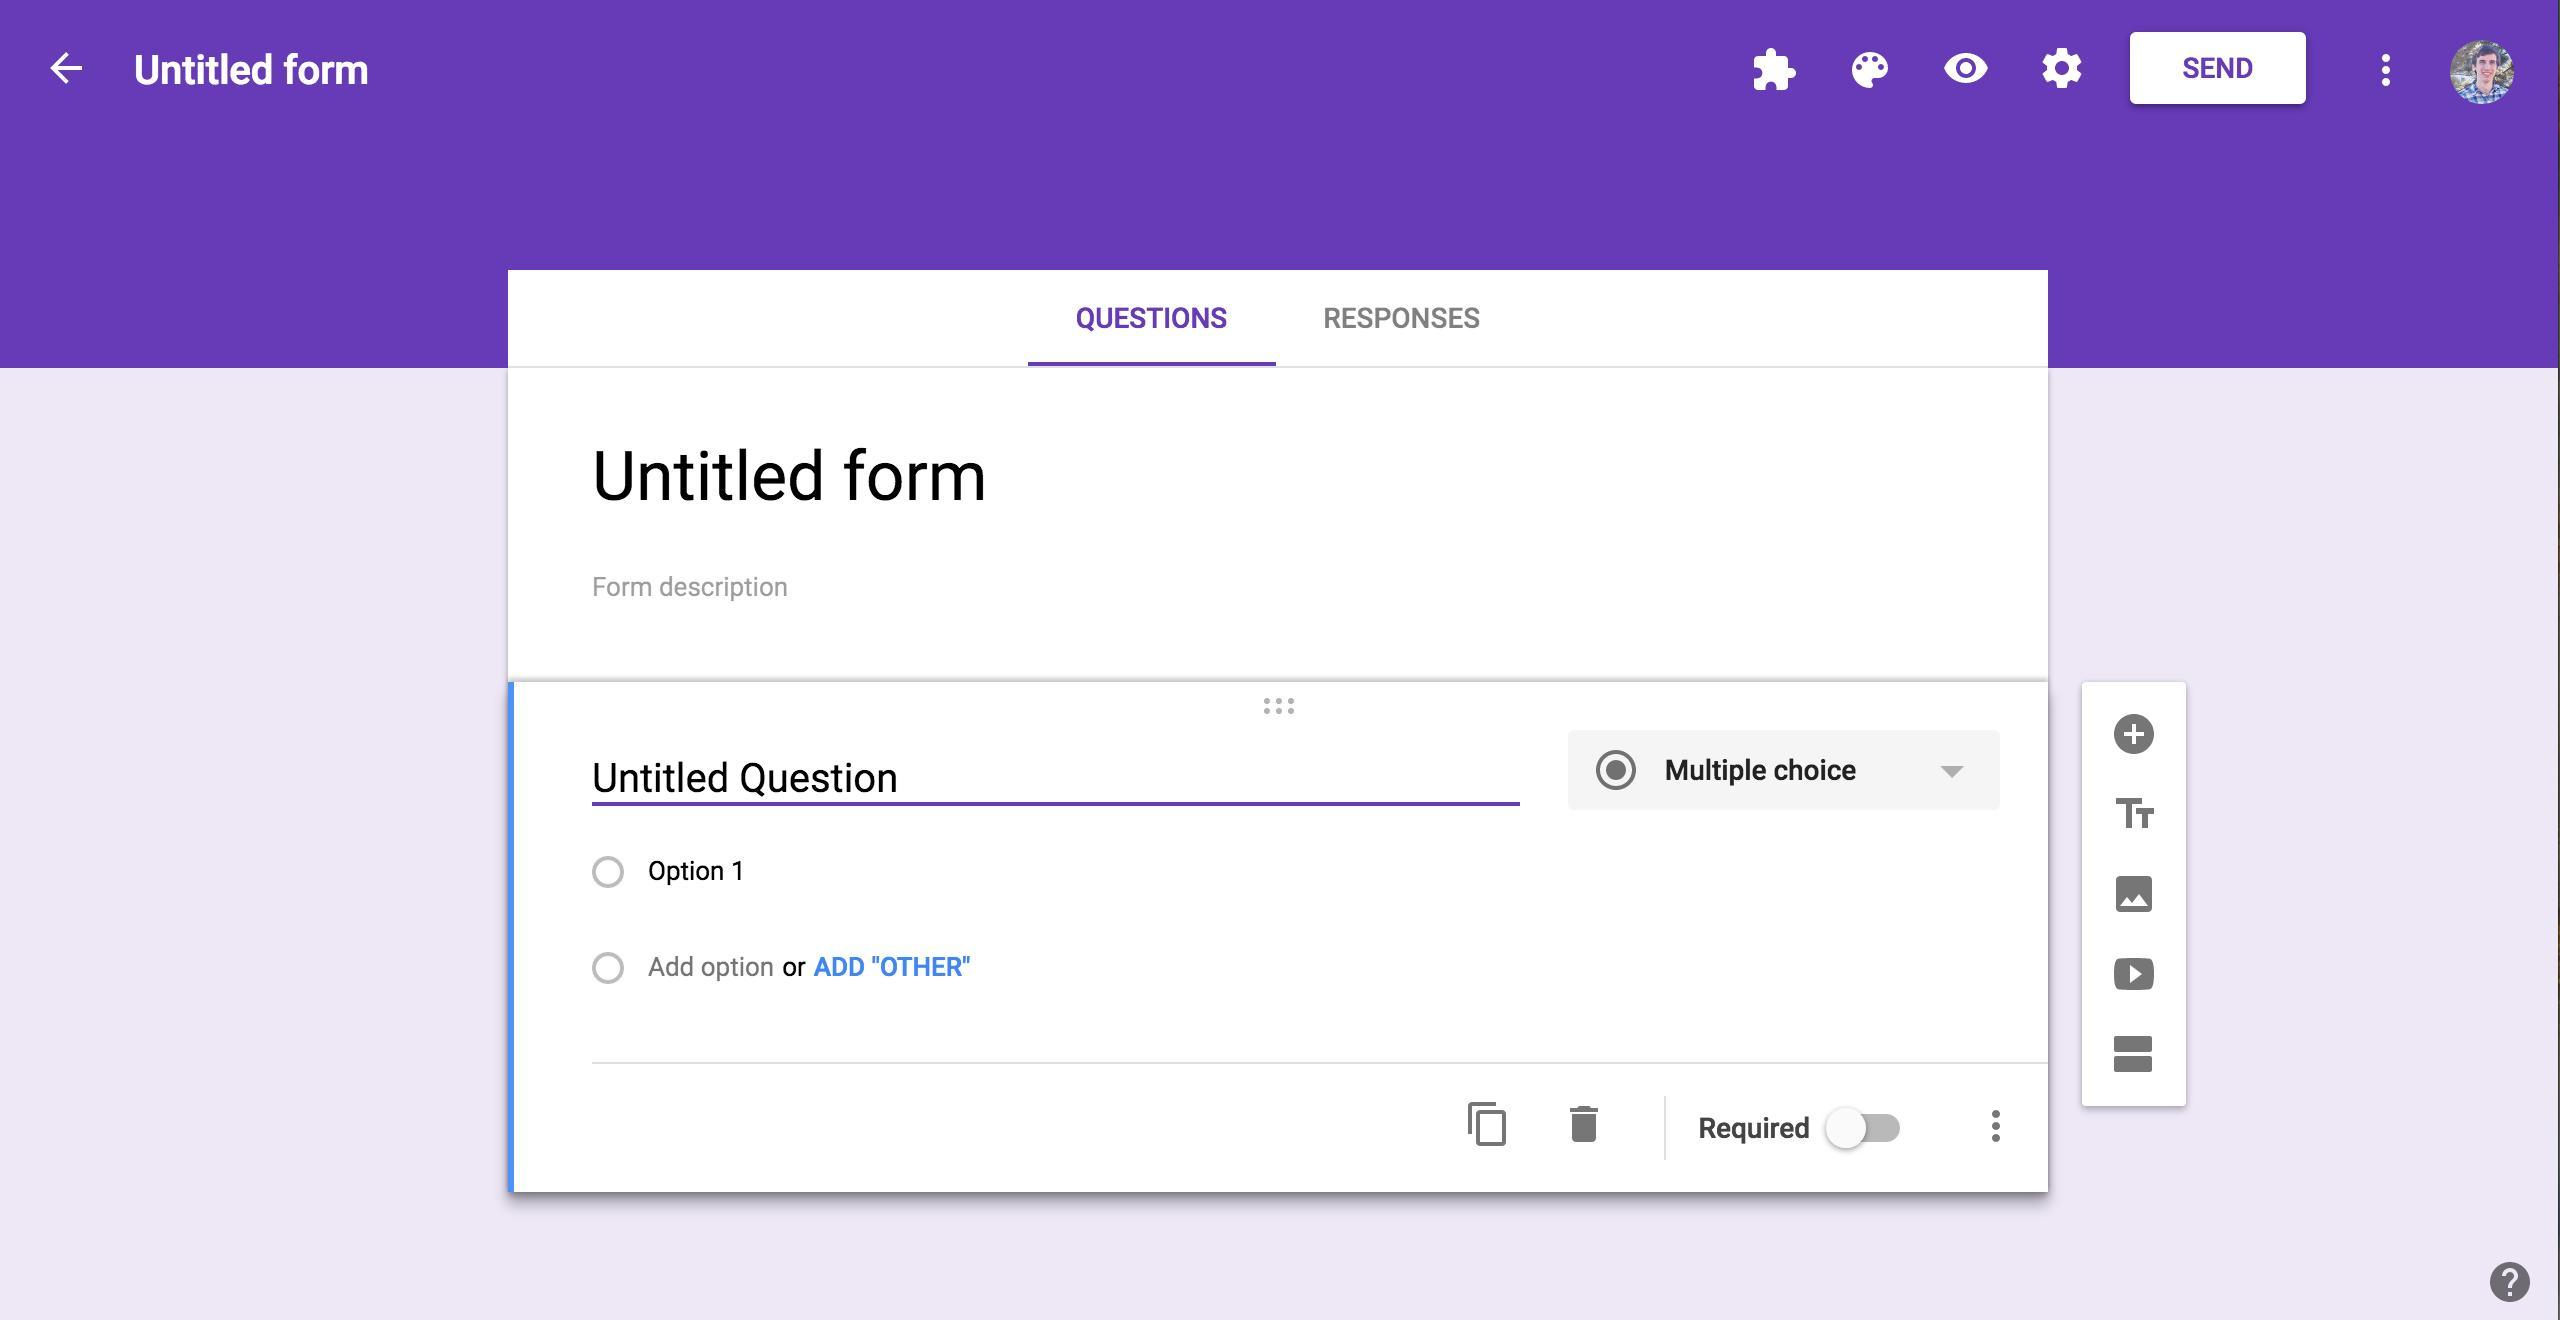button: (2131, 32, 2304, 106)
dropdown: (1565, 727, 2000, 813)
icon: (2449, 34, 2515, 116), (1456, 1084, 1522, 1162), (1745, 39, 1803, 103), (1937, 40, 1994, 103), (1843, 44, 1899, 101), (2111, 704, 2159, 763), (2109, 1029, 2164, 1079), (1244, 689, 1315, 727), (2042, 39, 2085, 101), (40, 44, 94, 94), (2112, 951, 2164, 1002), (2366, 40, 2409, 103), (2114, 874, 2163, 923), (1567, 1096, 1606, 1153), (1978, 1099, 2020, 1152), (2116, 795, 2161, 838)
label: (591, 433, 996, 515), (591, 753, 904, 803), (646, 946, 980, 987), (651, 855, 746, 896), (1698, 1113, 1816, 1143)
radio: (591, 854, 628, 892), (591, 950, 628, 987)
switch: (1818, 1099, 1910, 1158)
